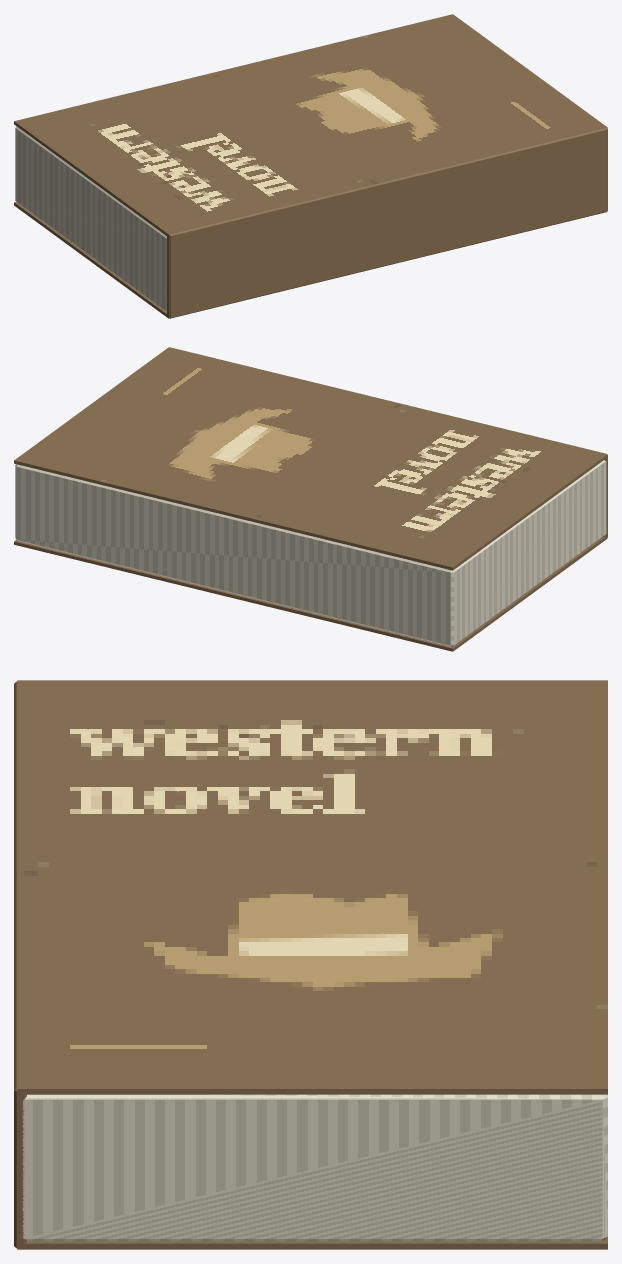
File: novel_western.glb
3 views of the same model, one above another, from view 1: azimuth 30°, elevation 25°; view 2: azimuth 150°, elevation 25°; view 3: azimuth 270°, elevation 25° (orthographic). The views are drawn at different scales.
Parts seen in each view (by area): view 1: block_front, block_spine, block_pages, block_back; view 2: block_front, block_pages, block_back, block_spine; view 3: block_front, block_pages, block_spine, block_back.
Part boxes in pixels (x1,y1,x2,y2): block_front: [14, 14, 607, 237]; block_spine: [167, 128, 607, 318]; block_pages: [15, 126, 167, 311]; block_back: [14, 202, 607, 318]; block_front: [14, 347, 607, 570]; block_pages: [15, 460, 606, 646]; block_back: [14, 536, 607, 651]; block_spine: [168, 347, 607, 536]; block_front: [17, 680, 607, 1094]; block_pages: [22, 1094, 607, 1241]; block_spine: [14, 681, 26, 1248]; block_back: [17, 1237, 607, 1249].
Size of the model in its own units: 0.18 by 0.033 by 0.1106.
1 material, 1 textured.
